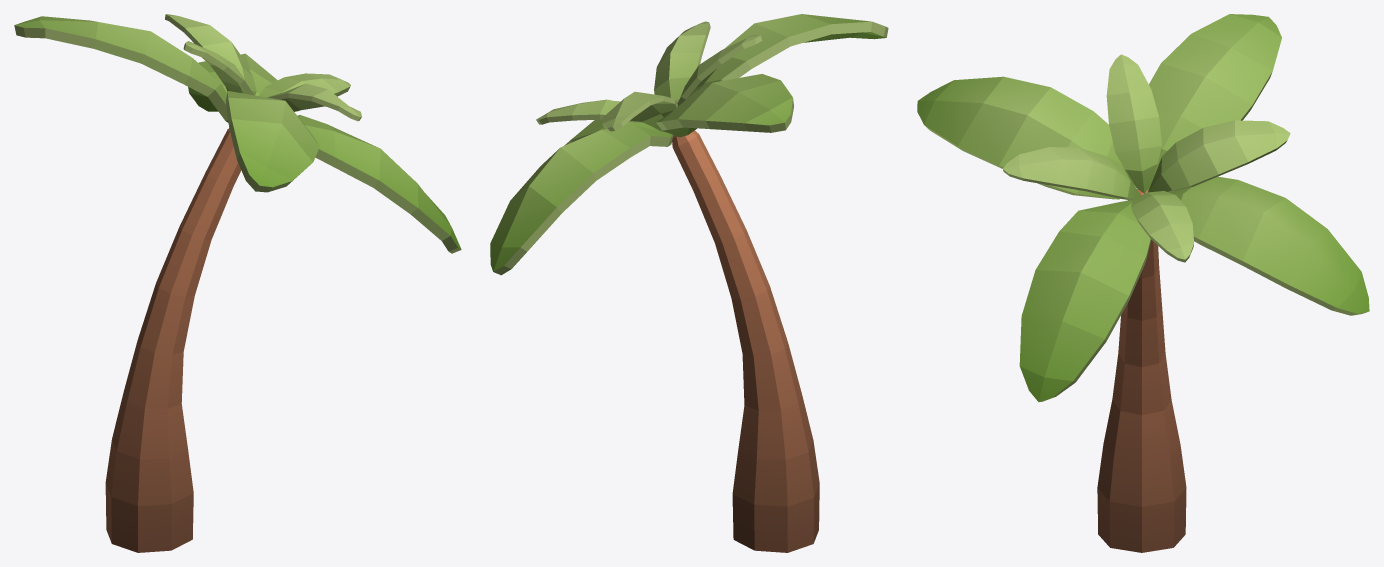
File: palm-tree-tilted-3.glb
3 renders of one model, left to right at view 1: azimuth 30°, elevation 25°; view 2: azimuth 150°, elevation 25°; view 3: azimuth 270°, elevation 25°, orthographic.
Visible parts, largest first — view 1: palm tree tilted 3; view 2: palm tree tilted 3; view 3: palm tree tilted 3.
Boxes of the visible parts, x1,y1,x2,y2 form: palm tree tilted 3: [14, 14, 461, 552]; palm tree tilted 3: [490, 14, 888, 552]; palm tree tilted 3: [917, 14, 1369, 552].
Size of the model in its own units: 4.81 by 6.76 by 5.62.
1 material, 1 textured.
